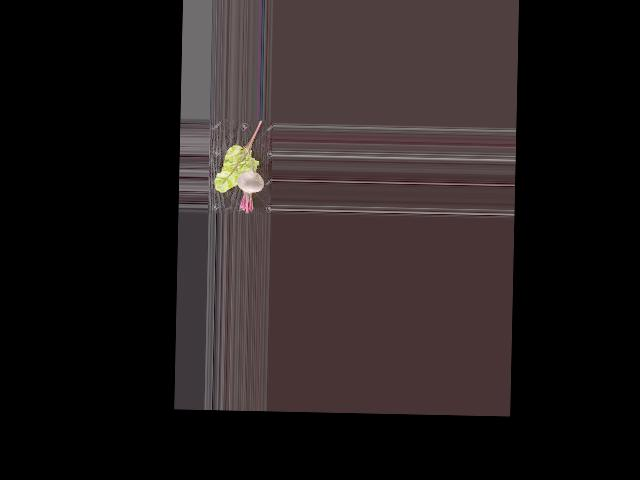beet: (236, 146, 264, 214)
